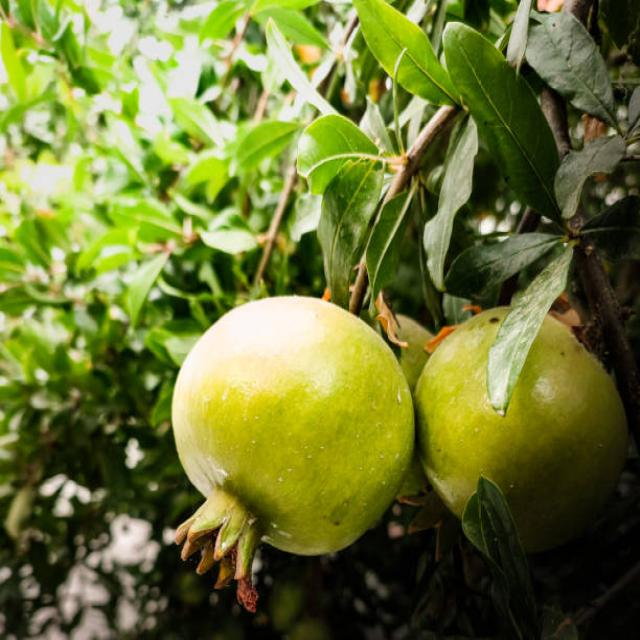Unripe: (170, 289, 415, 612), (417, 310, 631, 559)
